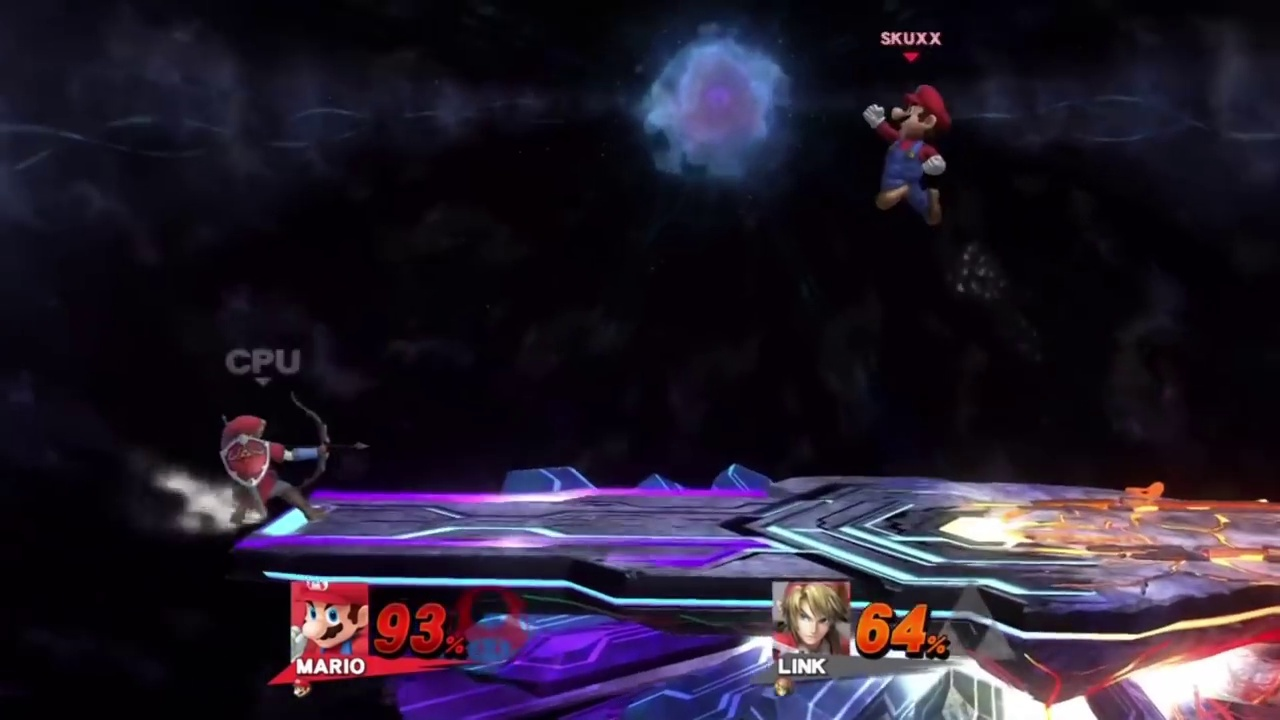Mario: (863, 82, 946, 230)
